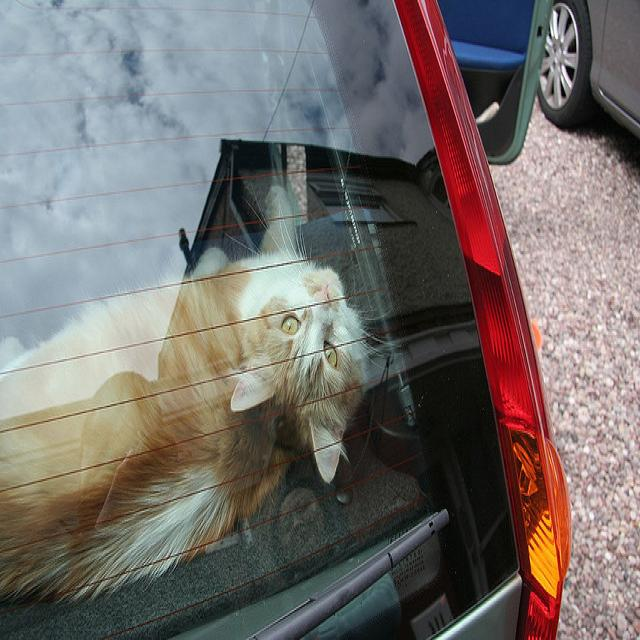Vehicle: (0, 0, 571, 632), (537, 0, 640, 141)
